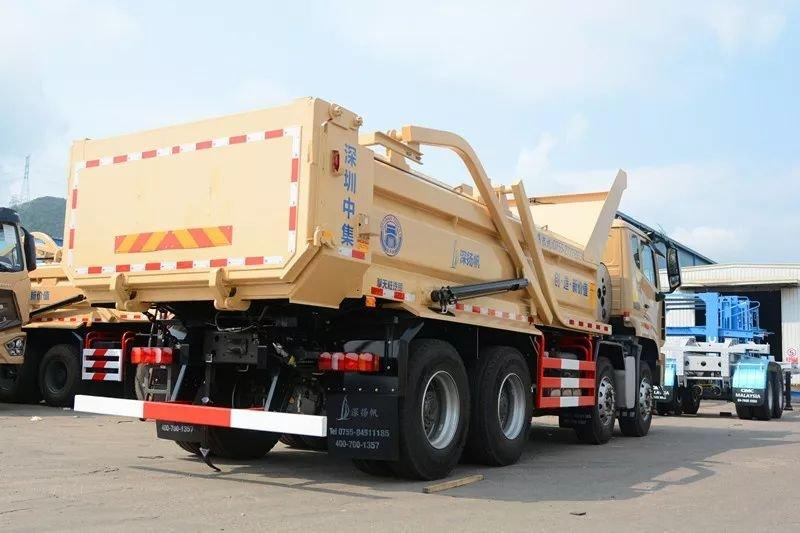truck: (55, 79, 675, 485)
